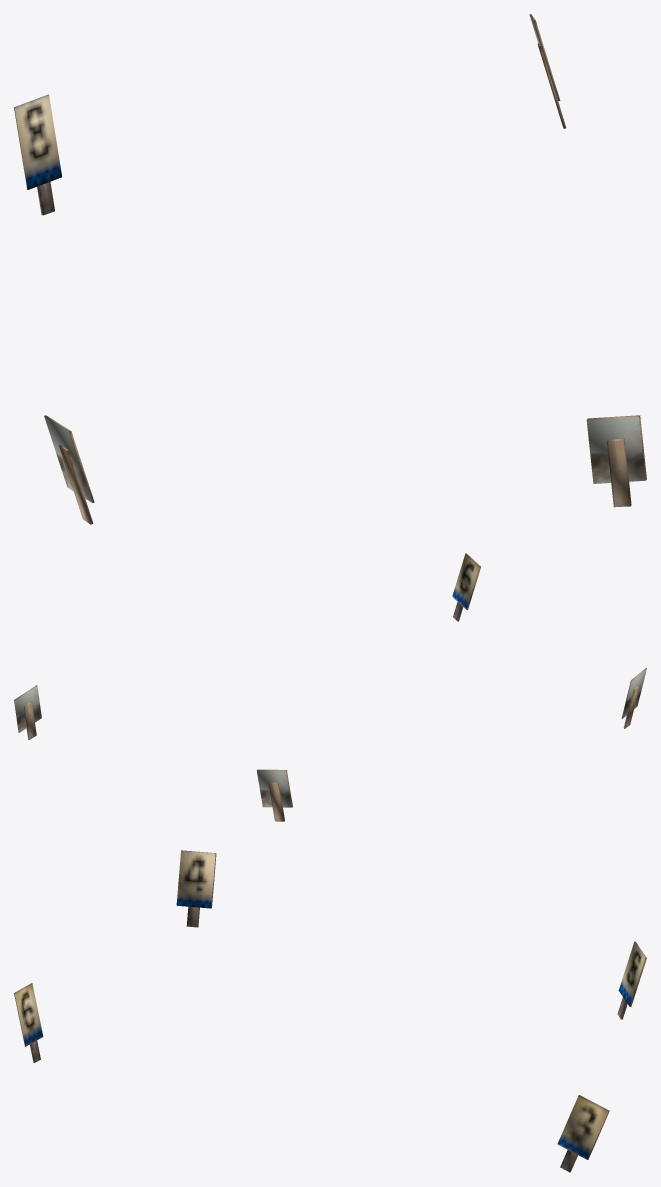
File: MARKERS.fbx
3 renders of one model, top to bottom at view 1: azimuth 30°, elevation 25°; view 2: azimuth 150°, elevation 25°; view 3: azimuth 270°, elevation 25°, orthographic. The views are drawn at different scales.
Parts seen in each view (by area): view 1: DIRT.011; view 2: DIRT.011; view 3: DIRT.011.
Boxes of the visible parts, x1,y1,x2,y2 form: DIRT.011: (14,14,646,524); DIRT.011: (14,553,646,821); DIRT.011: (14,850,646,1172).
Bounding box in the file's own units: 94.36 × 12.23 × 98.67.
